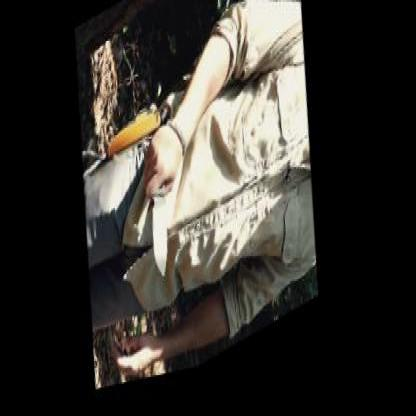knife: (132, 121, 201, 306)
